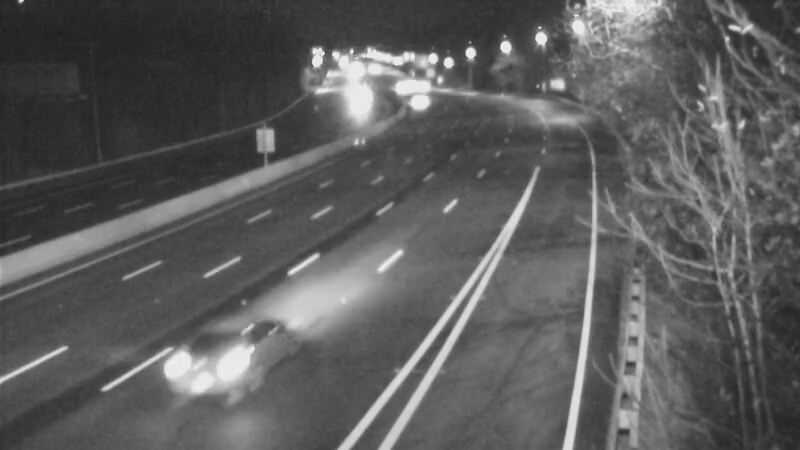vehicle: (160, 316, 270, 426), (394, 60, 444, 110), (393, 73, 443, 123), (332, 77, 382, 127)
